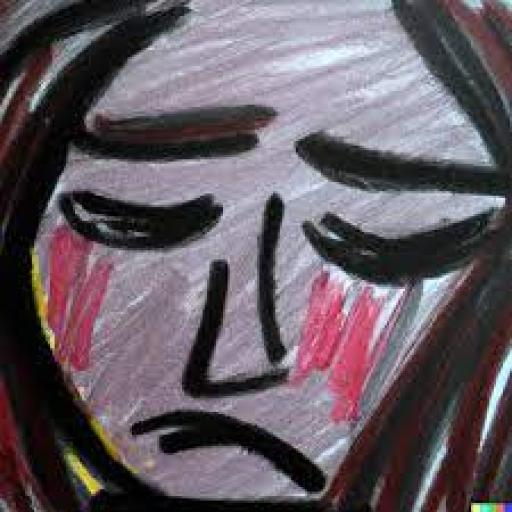person: (0, 0, 512, 510)
